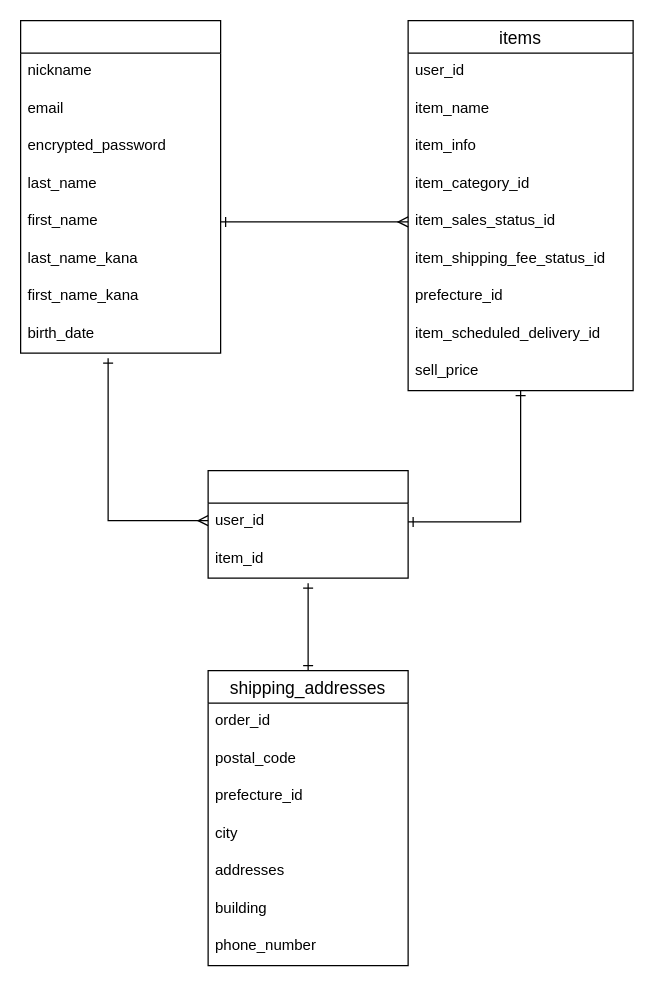
The diagram is 654 pixels wide and 986 high, and some of its shapes have lost their labels. The box of each missing label's shape, as (x1, y1, x2, y2) in pixels:
orders: (207, 469, 408, 578)
users: (19, 19, 221, 353)
